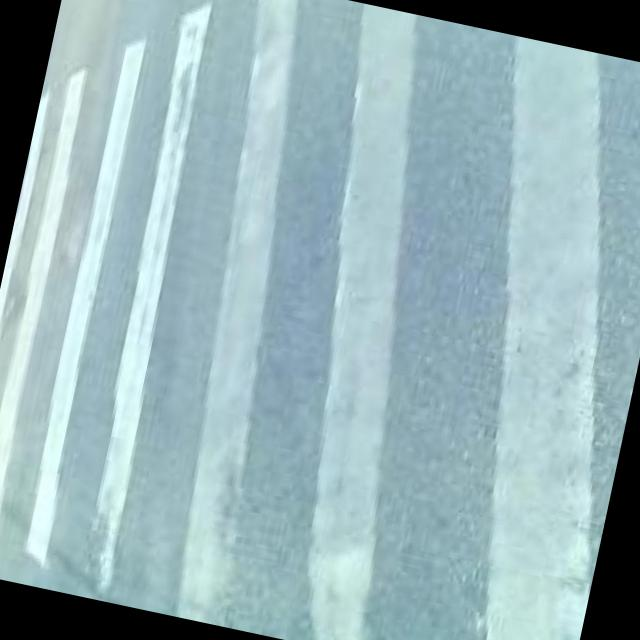zebra: (0, 0, 610, 640)
